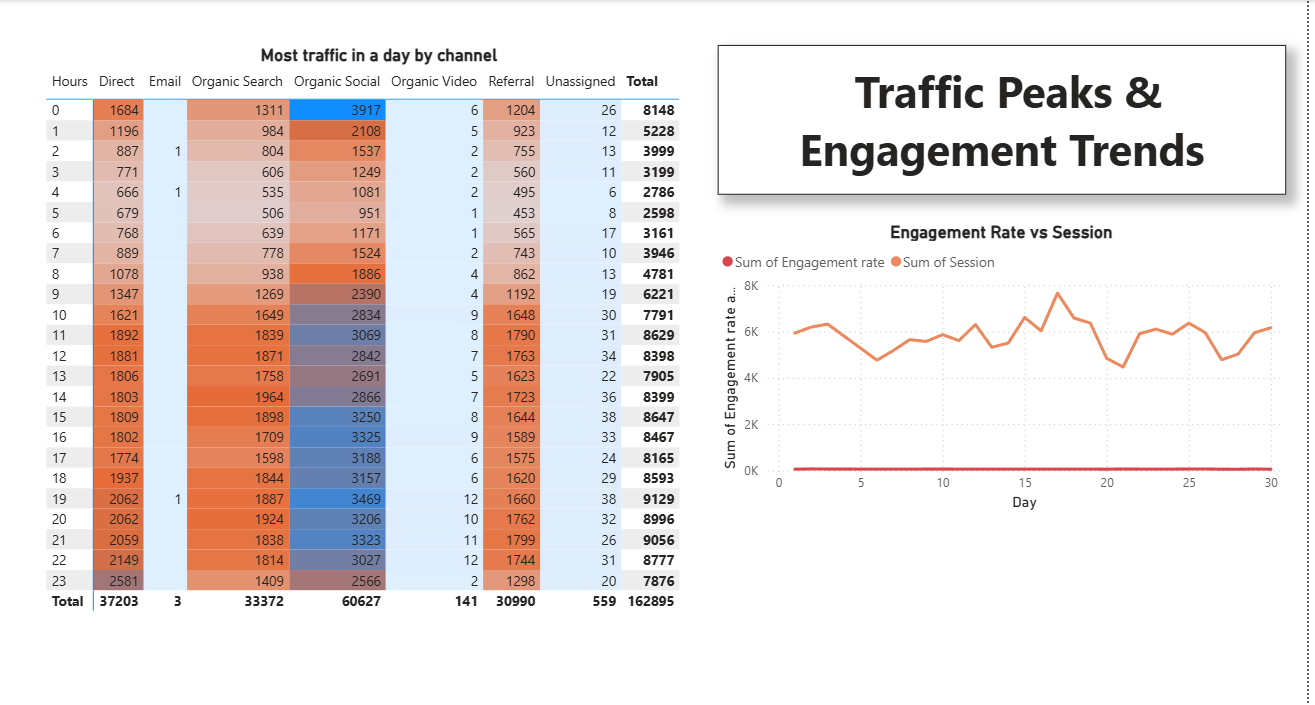

What the dashboard file says about the page in this screenshot:
{"tool":"powerbi","page":{"name":"Page 3","canvas":[1280,720],"ordinal":2},"visuals":[{"type":"pivotTable","title":"Most traffic in a day by channel","fields":{"Rows":["cleanedwebsite.Hours"],"Columns":["cleanedwebsite.Channel group"],"Values":["Sum(cleanedwebsite.Session)"]},"box":[41.2,43.8,643.8,573.8],"z":0},{"type":"lineChart","title":"Engagement Rate vs Session","fields":{"Category":["cleanedwebsite.DateHour.Variation.Date Hierarchy.Day"],"Y":["Sum(cleanedwebsite.Engagement rate)","Sum(cleanedwebsite.Session)"]},"box":[702.5,216.2,557.5,287.5],"z":1}]}

Visuals, with their boxes on the page's 1280x720 design canvas (x1, y1, x2, y2). These are canvas units, not pixel positions in the 1315x705 screenshot, which may show the page scaled, cropped or inside an application window:
"Most traffic in a day by channel" pivotTable: <box>41,44,685,618</box>
"Engagement Rate vs Session" lineChart: <box>702,216,1260,504</box>
